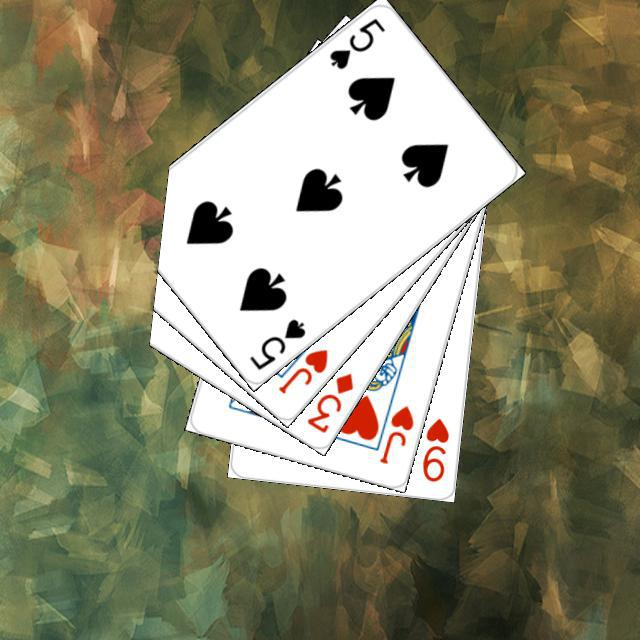3d: (301, 368, 355, 435)
5s: (324, 12, 387, 72), (244, 314, 307, 372)
9h: (417, 413, 451, 484)
Jh: (273, 344, 330, 396), (374, 400, 416, 466)
